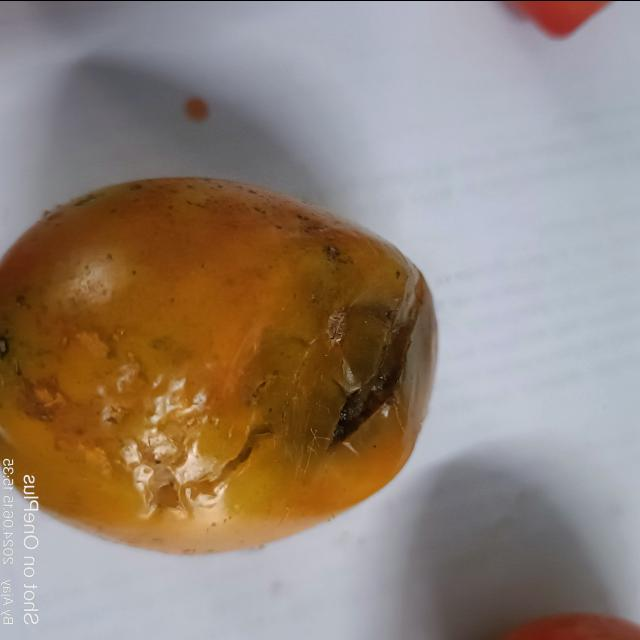Botrytis: (329, 278, 432, 448), (184, 414, 257, 507)
